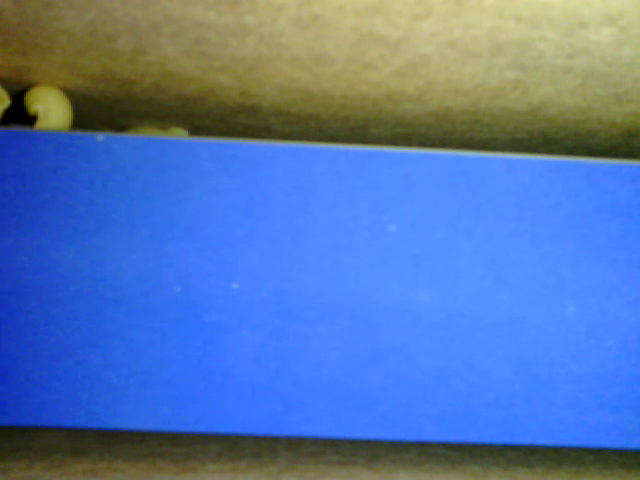shell: (26, 82, 75, 138)
